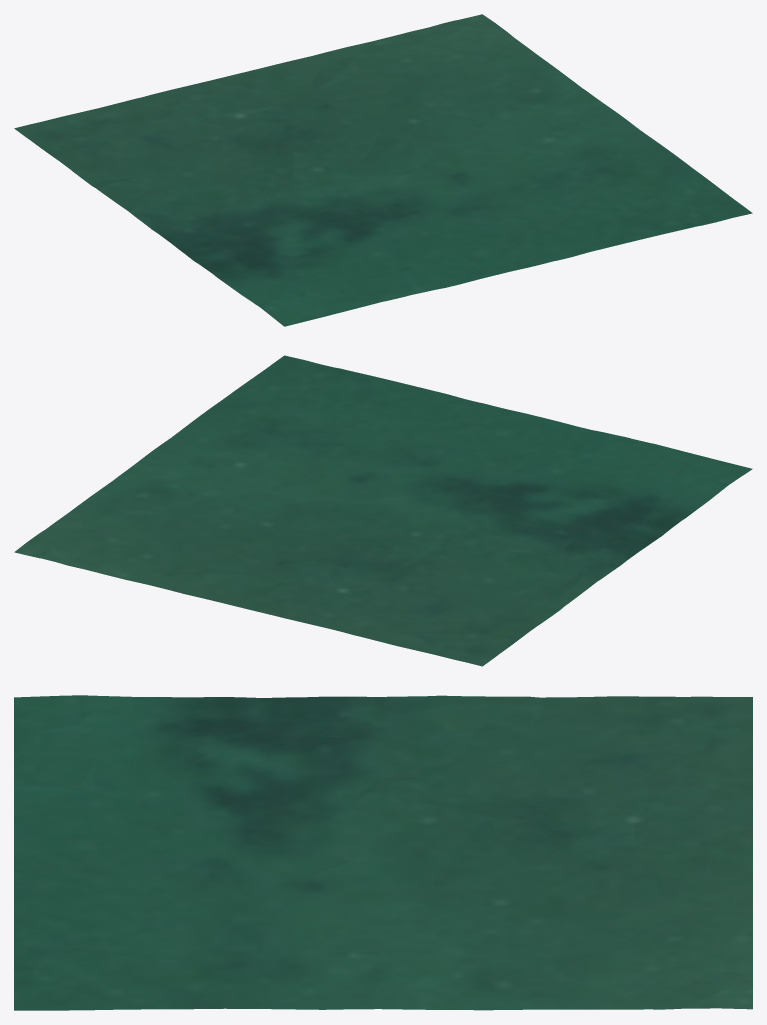
The picture shows the model from 3 angles, top to bottom: view 1: azimuth 30°, elevation 25°; view 2: azimuth 150°, elevation 25°; view 3: azimuth 270°, elevation 25°; orthographic projection. The views are drawn at different scales.
Size of the model in its own units: 52.22 by 0.2808 by 52.22.
3 materials, 3 textured.
